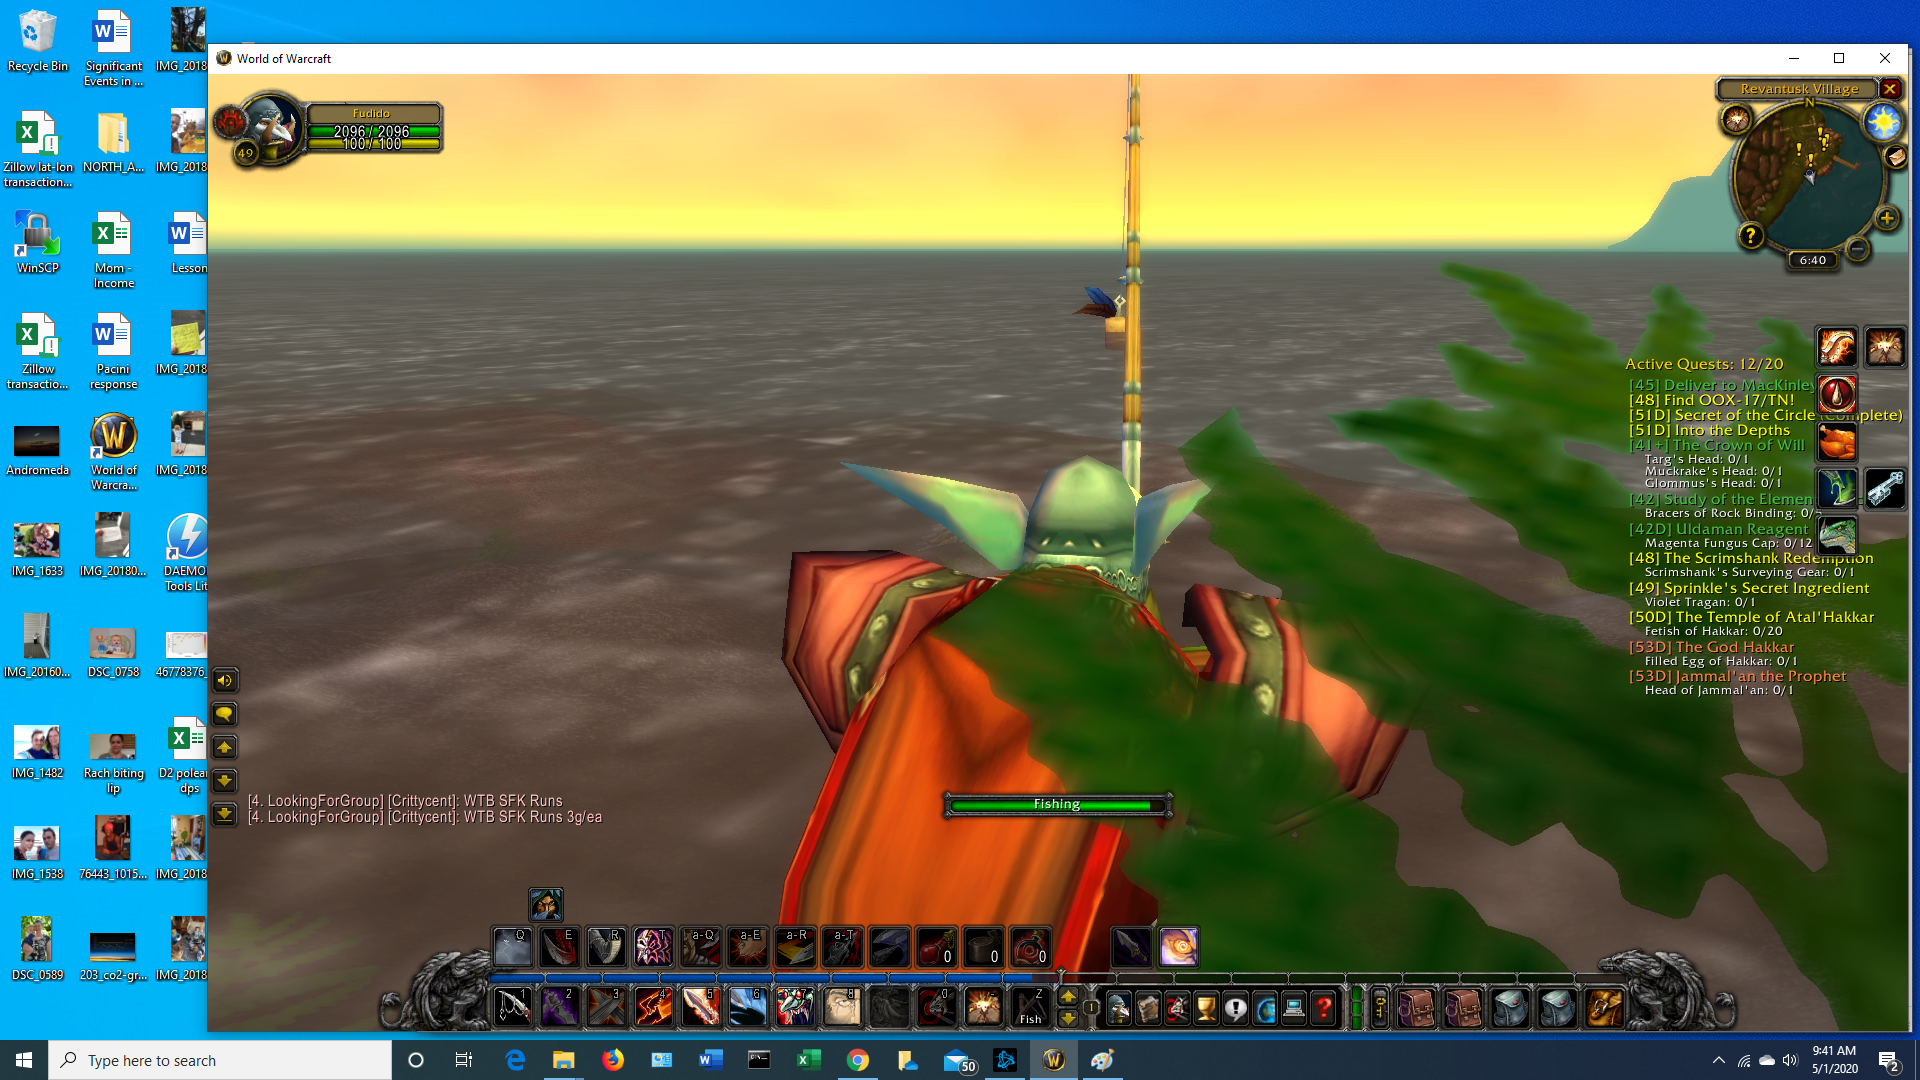bobble: (1069, 280, 1139, 353)
